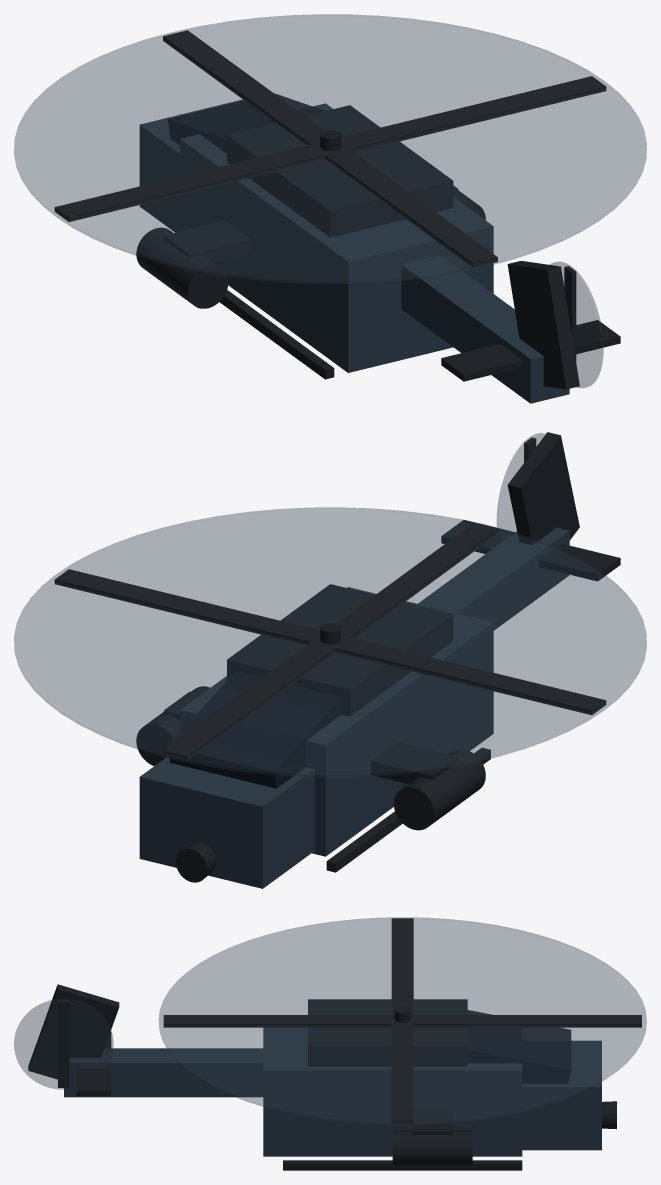
The model's file is r9x_mohawk.glb.
The picture shows the model from 3 angles, top to bottom: view 1: azimuth 30°, elevation 25°; view 2: azimuth 150°, elevation 25°; view 3: azimuth 270°, elevation 25°; orthographic projection. The views are drawn at different scales.
Parts seen in each view (by area): view 1: MainRotorBlurDisk, CabinBody, TurboshaftHousing, BladesLongitudinal, TailBoom, BladesLateral, VerticalFin, HydraPodLeftMesh, NoseCone, Canopy, HorizontalStabilizer, TailRotorBlurDisk (+3 smaller); view 2: MainRotorBlurDisk, CabinBody, NoseCone, TurboshaftHousing, BladesLongitudinal, Canopy, BladesLateral, TailBoom, VerticalFin, HydraPodLeftMesh, StubWings, HorizontalStabilizer (+4 smaller); view 3: MainRotorBlurDisk, CabinBody, TailBoom, TurboshaftHousing, NoseCone, BladesLateral, TailRotorBlurDisk, Canopy, BladesLongitudinal, VerticalFin, HydraPodRightMesh, SkidRight (+4 smaller).
Part boxes in pixels (box(x1,y1,x2,y2)): MainRotorBlurDisk: box(14, 14, 646, 283); CabinBody: box(180, 103, 493, 372); TurboshaftHousing: box(227, 105, 453, 237); BladesLongitudinal: box(54, 76, 606, 221); TailBoom: box(401, 255, 569, 403); BladesLateral: box(163, 30, 497, 267); VerticalFin: box(507, 261, 579, 389); HydraPodLeftMesh: box(136, 227, 228, 308); NoseCone: box(139, 99, 243, 232); Canopy: box(168, 93, 324, 153); HorizontalStabilizer: box(441, 320, 620, 381); TailRotorBlurDisk: box(550, 262, 603, 387); MainRotorBlurDisk: box(14, 507, 646, 776); CabinBody: box(180, 587, 493, 856); NoseCone: box(139, 756, 314, 888); TurboshaftHousing: box(227, 584, 453, 716); BladesLongitudinal: box(54, 569, 606, 714); Canopy: box(168, 671, 341, 788); BladesLateral: box(163, 523, 497, 760); TailBoom: box(418, 527, 569, 630); VerticalFin: box(507, 432, 579, 544); HydraPodLeftMesh: box(394, 749, 485, 830); StubWings: box(164, 691, 458, 783); HorizontalStabilizer: box(441, 520, 620, 581); MainRotorBlurDisk: box(159, 917, 646, 1124); CabinBody: box(263, 1027, 522, 1156); TailBoom: box(64, 1048, 263, 1097); TurboshaftHousing: box(308, 999, 467, 1066); NoseCone: box(522, 1040, 601, 1150); BladesLateral: box(163, 1015, 641, 1027); TailRotorBlurDisk: box(14, 999, 113, 1089); Canopy: box(467, 1010, 571, 1083); BladesLongitudinal: box(391, 918, 413, 1124); VerticalFin: box(28, 984, 119, 1079); HydraPodRightMesh: box(392, 1130, 472, 1166); SkidRight: box(283, 1160, 522, 1170).
Size of the model in its own units: 4.9 by 1.69 by 6.35.
